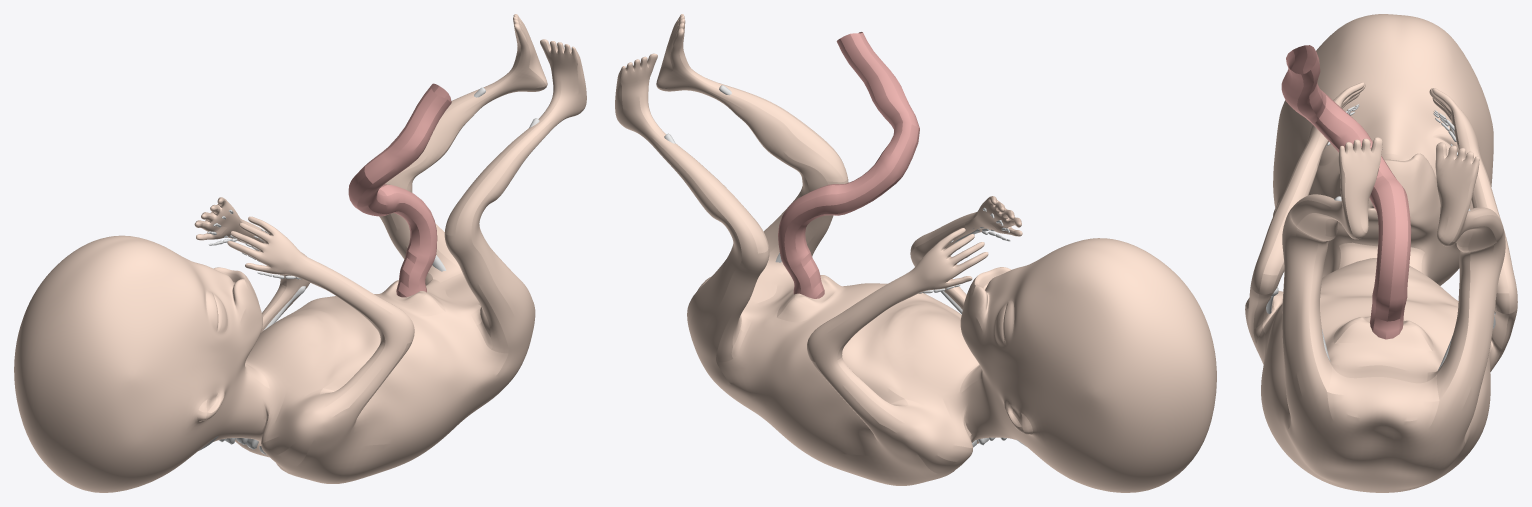
File: week20.glb
3 renders of one model, left to right at view 1: azimuth 30°, elevation 25°; view 2: azimuth 150°, elevation 25°; view 3: azimuth 270°, elevation 25°, orthographic. The views are drawn at different scales.
Parts seen in each view (by area): view 1: FetusBody_Skin_Master, UmbilicalCord_Master, handbones; view 2: FetusBody_Skin_Master, UmbilicalCord_Master; view 3: FetusBody_Skin_Master, UmbilicalCord_Master, handbones.
Boxes of the visible parts, box(x1,y1,x2,y2) form: FetusBody_Skin_Master: box(14, 14, 586, 492); UmbilicalCord_Master: box(348, 83, 451, 297); handbones: box(207, 209, 305, 330); FetusBody_Skin_Master: box(615, 14, 1216, 492); UmbilicalCord_Master: box(778, 32, 919, 298); FetusBody_Skin_Master: box(1245, 14, 1517, 492); UmbilicalCord_Master: box(1281, 45, 1411, 339); handbones: box(1266, 104, 1495, 328).
Bounding box in the file's own units: 1.07 × 0.7168 × 0.3871.
